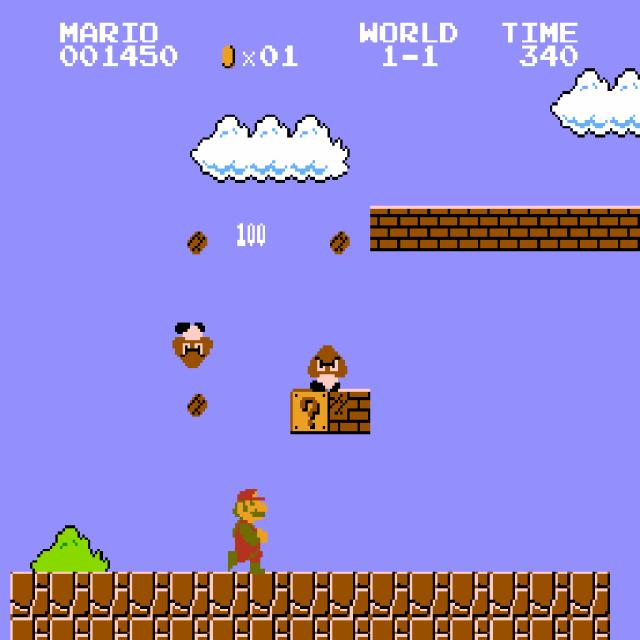big_mario: (225, 480, 268, 574)
brick_block: (330, 389, 370, 434), (370, 206, 410, 251), (410, 206, 450, 251), (450, 206, 490, 251), (490, 206, 530, 251), (530, 206, 570, 251), (570, 206, 610, 251), (610, 206, 640, 251)
goomba: (305, 343, 348, 391)
mystery_block: (290, 389, 330, 434)
undestructible_block: (10, 572, 50, 617), (50, 572, 90, 617), (90, 572, 130, 617), (130, 572, 170, 617), (170, 572, 210, 617), (210, 572, 250, 617), (250, 572, 290, 617), (290, 572, 330, 617), (330, 572, 370, 617), (370, 572, 410, 617), (410, 572, 450, 617), (450, 572, 490, 617), (490, 572, 530, 617), (530, 572, 570, 617), (570, 572, 610, 617), (10, 617, 50, 640), (50, 617, 90, 640), (90, 617, 130, 640), (130, 617, 170, 640), (170, 617, 210, 640), (210, 617, 250, 640), (250, 617, 290, 640), (290, 617, 330, 640), (330, 617, 370, 640), (370, 617, 410, 640), (410, 617, 450, 640), (450, 617, 490, 640), (490, 617, 530, 640), (530, 617, 570, 640), (570, 617, 610, 640)
